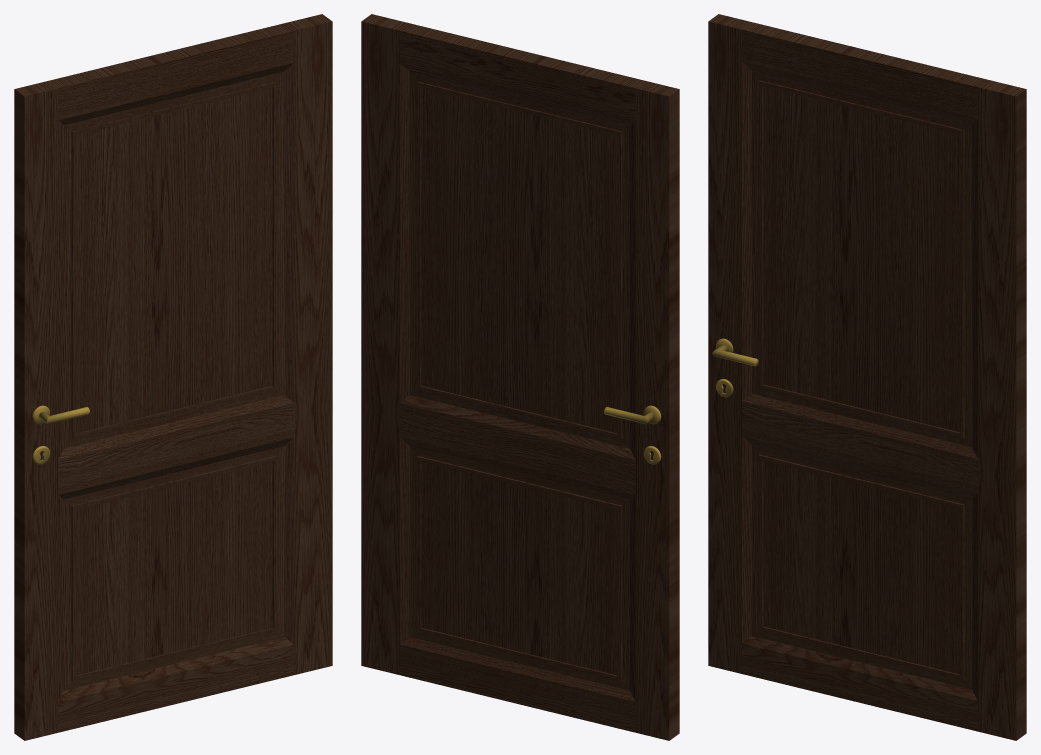
The model's file is puerta.obj.
3 renders of one model, left to right at view 1: azimuth 30°, elevation 25°; view 2: azimuth 150°, elevation 25°; view 3: azimuth 330°, elevation 25°, orthographic.
Visible parts, largest first — view 1: Door1.004_Door1.002; view 2: Door1.004_Door1.002; view 3: Door1.004_Door1.002.
Boxes of the visible parts, x1,y1,x2,y2 form: Door1.004_Door1.002: (14, 14, 332, 740); Door1.004_Door1.002: (361, 14, 679, 740); Door1.004_Door1.002: (708, 14, 1026, 740).
Size of the model in its own units: 0.8806 by 1.76 by 0.1429.
2 materials, 2 textured.
